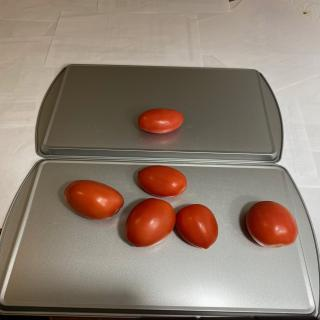Tomato: (125, 198, 176, 247), (246, 200, 298, 248), (64, 180, 124, 220), (176, 204, 218, 249), (137, 165, 187, 198), (138, 108, 185, 134)
